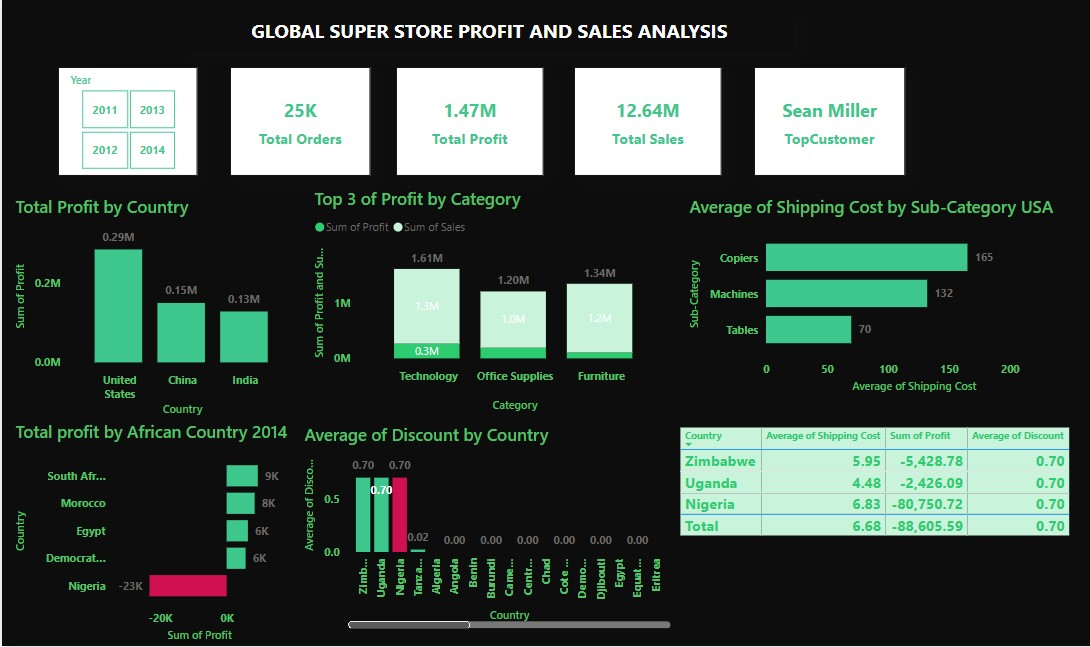

This screenshot's page, from the dashboard's own definition file:
{"tool":"powerbi","page":{"name":"DASHBOARD","canvas":[1280,720],"ordinal":0},"visuals":[{"type":"clusteredColumnChart","title":"Total Profit by Country","fields":{"Y":["Orders.Profit"],"Category":["Orders.Country"]},"box":[10,218.9,321.1,250],"z":1000},{"type":"columnChart","title":"Top 3 of Profit by Category","fields":{"Category":["Orders.Category"],"Y":["Orders.Profit","Orders.Sales"]},"box":[342.2,210,405.6,254.4],"z":2000},{"type":"clusteredBarChart","title":"Average of Shipping Cost by Sub-Category USA","fields":{"Category":["Orders.Sub-Category"],"Y":["Orders.Shipping Cost"]},"box":[758.9,218.9,435.6,224.4],"z":3000},{"type":"clusteredBarChart","title":"Total profit by African Country 2014","fields":{"Category":["Orders.Country"],"Y":["Orders.Profit"]},"box":[10,469,321,251],"z":4000},{"type":"clusteredColumnChart","fields":{"Category":["Orders.Country"],"Y":["Orders.Discount"]},"box":[331.1,472.2,416.7,233.3],"z":5000},{"type":"tableEx","fields":{"Values":["Orders.Country","Orders.Shipping Cost","Orders.Profit","Orders.Discount"]},"box":[747.8,472.2,446.7,233.3],"z":6000},{"type":"textbox","box":[204,17,674,45],"z":7000},{"type":"card","fields":{"Values":["Orders.Profit"]},"box":[438,77,164,121],"z":8000},{"type":"card","fields":{"Values":["Orders.Total Orders"]},"box":[253,77,156,121],"z":9000},{"type":"card","fields":{"Values":["Orders.Sales"]},"box":[636,77,164,121],"z":10000},{"type":"card","fields":{"Values":["Orders.TopCustomer"]},"box":[835,77,168,121],"z":11000},{"type":"slicer","fields":{"Values":["Orders.Order Date.Variation.Date Hierarchy.Year"]},"box":[62,77,155,121],"z":12000}]}

Visuals, with their boxes on the page's 1280x720 design canvas (x1, y1, x2, y2). These are canvas units, not pixel positions in the 1090x647 screenshot, which may show the page scaled, cropped or inside an application window:
"Total Profit by Country" clusteredColumnChart: (10, 219, 331, 469)
"Top 3 of Profit by Category" columnChart: (342, 210, 748, 464)
"Average of Shipping Cost by Sub-Category USA" clusteredBarChart: (759, 219, 1194, 443)
"Total profit by African Country 2014" clusteredBarChart: (10, 469, 331, 720)
clusteredColumnChart - Orders.Country x Orders.Discount: (331, 472, 748, 706)
tableEx - Orders.Country x Orders.Shipping Cost: (748, 472, 1194, 706)
textbox: (204, 17, 878, 62)
card - Orders.Profit: (438, 77, 602, 198)
card - Orders.Total Orders: (253, 77, 409, 198)
card - Orders.Sales: (636, 77, 800, 198)
card - Orders.TopCustomer: (835, 77, 1003, 198)
slicer - Orders.Order Date.Variation.Date Hierarchy.Year: (62, 77, 217, 198)
